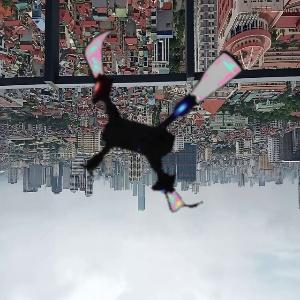drone: (54, 11, 261, 218)
